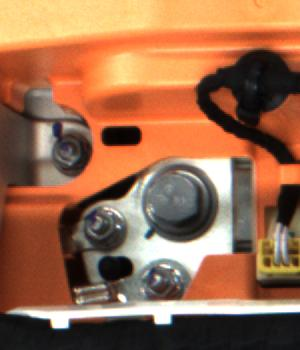nut_b: (140, 169, 223, 243)
screw_s: (49, 131, 85, 175), (83, 205, 121, 246), (144, 259, 181, 299)
